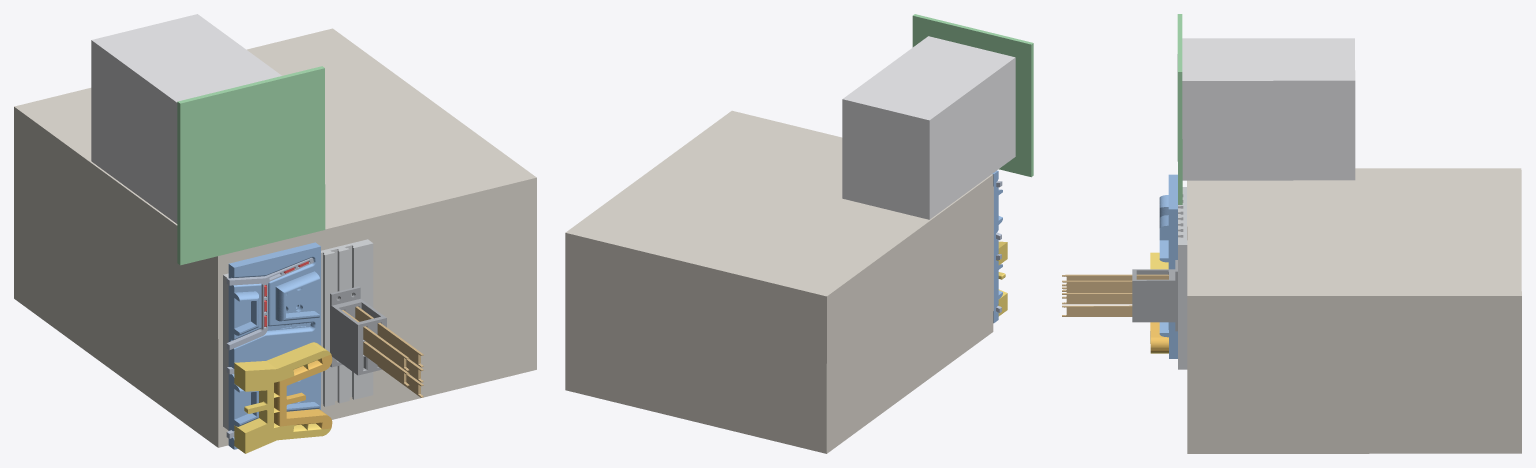
The model's file is cell_v8.glb.
3 renders of one model, left to right at view 1: azimuth 30°, elevation 25°; view 2: azimuth 150°, elevation 25°; view 3: azimuth 270°, elevation 25°, orthographic. The views are drawn at different scales.
Parts seen in each view (by area): view 1: Table, AMR plate, AMR top module, Base A, T-slot plate, Guide big, Plank rack, Base B, Guide small, frame2, plank3, plank6 (+1 smaller); view 2: Table, AMR top module, AMR plate; view 3: Table, AMR top module, Plank rack, T-slot plate, Base A, AMR plate, plank1, plank2, plank3, plank6, Base B.
Boxes of the visible parts, x1,y1,x2,y2 form: Table: (14, 28, 536, 447); AMR plate: (177, 66, 325, 265); AMR top module: (91, 14, 281, 223); Base A: (228, 242, 320, 358); T-slot plate: (223, 239, 373, 430); Guide big: (234, 342, 330, 453); Plank rack: (330, 286, 386, 375); Base B: (228, 337, 320, 449); Guide small: (274, 354, 332, 429); frame2: (226, 257, 313, 350); plank3: (355, 306, 423, 367); plank6: (342, 310, 409, 370); Table: (565, 110, 993, 453); AMR top module: (842, 36, 1015, 219); AMR plate: (912, 14, 1033, 177); Table: (1187, 168, 1521, 453); AMR top module: (1182, 38, 1355, 180); Plank rack: (1132, 260, 1177, 331); T-slot plate: (1178, 187, 1187, 369); Base A: (1159, 174, 1177, 269); AMR plate: (1177, 14, 1182, 204); plank1: (1062, 305, 1132, 316); plank2: (1062, 293, 1132, 304); plank3: (1062, 280, 1132, 291); plank6: (1062, 274, 1168, 286); Base B: (1159, 322, 1177, 358).
Size of the model in its own units: 750 by 710 by 1004.
